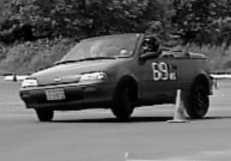car: (19, 33, 223, 128)
